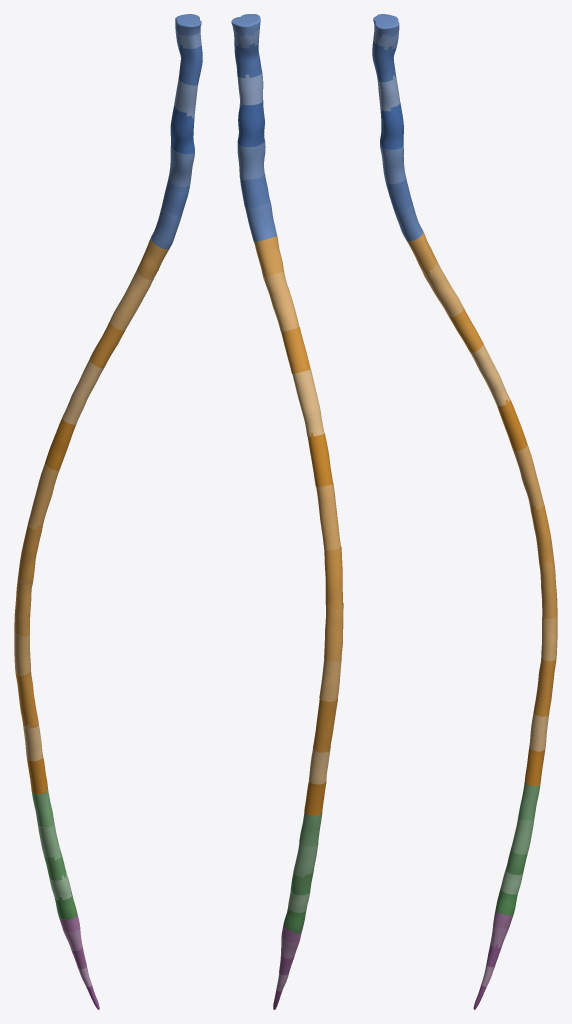
The model's file is medula.glb.
3 renders of one model, left to right at view 1: azimuth 90°, elevation 25°; view 2: azimuth 210°, elevation 25°; view 3: azimuth 270°, elevation 25°, orthographic. The views are drawn at different scales.
Parts seen in each view (by area): view 1: VH_M_second_thoracic_spinal_cord_segment, VH_M_fourth_thoracic_spinal_cord_segment, VH_M_sixth_thoracic_spinal_cord_segment, VH_M_C5_segment_of_cervical_spinal_cord, VH_M_seventh_thoracic_spinal_cord_segment, VH_M_eighth_thoracic_spinal_cord_segment, VH_M_tenth_thoracic_spinal_cord_segment, VH_M_C3_segment_of_cervical_spinal_cord, VH_M_fifth_thoracic_spinal_cord_segment, VH_M_C8_segment_of_cervical_spinal_cord, VH_M_C6_segment_of_cervical_spinal_cord, VH_M_third_thoracic_spinal_cord_segment (+9 smaller); view 2: VH_M_fourth_thoracic_spinal_cord_segment, VH_M_second_thoracic_spinal_cord_segment, VH_M_sixth_thoracic_spinal_cord_segment, VH_M_C5_segment_of_cervical_spinal_cord, VH_M_seventh_thoracic_spinal_cord_segment, VH_M_eighth_thoracic_spinal_cord_segment, VH_M_fifth_thoracic_spinal_cord_segment, VH_M_tenth_thoracic_spinal_cord_segment, VH_M_C8_segment_of_cervical_spinal_cord, VH_M_C6_segment_of_cervical_spinal_cord, VH_M_third_thoracic_spinal_cord_segment, VH_M_first_thoracic_spinal_cord_segment (+13 smaller); view 3: VH_M_second_thoracic_spinal_cord_segment, VH_M_fourth_thoracic_spinal_cord_segment, VH_M_sixth_thoracic_spinal_cord_segment, VH_M_C5_segment_of_cervical_spinal_cord, VH_M_tenth_thoracic_spinal_cord_segment, VH_M_seventh_thoracic_spinal_cord_segment, VH_M_eighth_thoracic_spinal_cord_segment, VH_M_fifth_thoracic_spinal_cord_segment, VH_M_C6_segment_of_cervical_spinal_cord, VH_M_C3_segment_of_cervical_spinal_cord, VH_M_third_thoracic_spinal_cord_segment, VH_M_ninth_thoracic_spinal_cord_segment (+9 smaller).
Boxes of the visible parts, bbox=[...] form: VH_M_second_thoracic_spinal_cord_segment: bbox=[110, 270, 153, 330]; VH_M_fourth_thoracic_spinal_cord_segment: bbox=[62, 359, 103, 424]; VH_M_sixth_thoracic_spinal_cord_segment: bbox=[28, 464, 60, 529]; VH_M_C5_segment_of_cervical_spinal_cord: bbox=[170, 105, 194, 153]; VH_M_seventh_thoracic_spinal_cord_segment: bbox=[17, 524, 42, 582]; VH_M_eighth_thoracic_spinal_cord_segment: bbox=[14, 578, 32, 636]; VH_M_tenth_thoracic_spinal_cord_segment: bbox=[15, 669, 38, 728]; VH_M_C3_segment_of_cervical_spinal_cord: bbox=[177, 42, 202, 85]; VH_M_fifth_thoracic_spinal_cord_segment: bbox=[45, 417, 76, 470]; VH_M_C8_segment_of_cervical_spinal_cord: bbox=[151, 206, 182, 249]; VH_M_C6_segment_of_cervical_spinal_cord: bbox=[168, 146, 194, 187]; VH_M_third_thoracic_spinal_cord_segment: bbox=[89, 321, 124, 368]; VH_M_fourth_thoracic_spinal_cord_segment: bbox=[292, 369, 324, 436]; VH_M_second_thoracic_spinal_cord_segment: bbox=[264, 271, 299, 331]; VH_M_sixth_thoracic_spinal_cord_segment: bbox=[316, 483, 340, 550]; VH_M_C5_segment_of_cervical_spinal_cord: bbox=[237, 100, 264, 147]; VH_M_seventh_thoracic_spinal_cord_segment: bbox=[324, 547, 342, 609]; VH_M_eighth_thoracic_spinal_cord_segment: bbox=[324, 603, 343, 661]; VH_M_fifth_thoracic_spinal_cord_segment: bbox=[307, 433, 332, 486]; VH_M_tenth_thoracic_spinal_cord_segment: bbox=[313, 699, 337, 752]; VH_M_C8_segment_of_cervical_spinal_cord: bbox=[245, 200, 276, 241]; VH_M_C6_segment_of_cervical_spinal_cord: bbox=[237, 140, 265, 179]; VH_M_third_thoracic_spinal_cord_segment: bbox=[281, 327, 310, 373]; VH_M_first_thoracic_spinal_cord_segment: bbox=[254, 236, 283, 280]; VH_M_second_thoracic_spinal_cord_segment: bbox=[422, 261, 463, 317]; VH_M_fourth_thoracic_spinal_cord_segment: bbox=[470, 343, 510, 406]; VH_M_sixth_thoracic_spinal_cord_segment: bbox=[512, 445, 544, 509]; VH_M_C5_segment_of_cervical_spinal_cord: bbox=[380, 103, 403, 149]; VH_M_tenth_thoracic_spinal_cord_segment: bbox=[533, 658, 556, 716]; VH_M_seventh_thoracic_spinal_cord_segment: bbox=[529, 502, 554, 564]; VH_M_eighth_thoracic_spinal_cord_segment: bbox=[539, 562, 557, 618]; VH_M_fifth_thoracic_spinal_cord_segment: bbox=[497, 399, 527, 450]; VH_M_C6_segment_of_cervical_spinal_cord: bbox=[380, 143, 405, 183]; VH_M_C3_segment_of_cervical_spinal_cord: bbox=[372, 41, 396, 81]; VH_M_third_thoracic_spinal_cord_segment: bbox=[449, 307, 483, 352]; VH_M_ninth_thoracic_spinal_cord_segment: bbox=[541, 614, 557, 661].
Bounding box in the file's own units: 0.0207 × 0.4652 × 0.0796.
